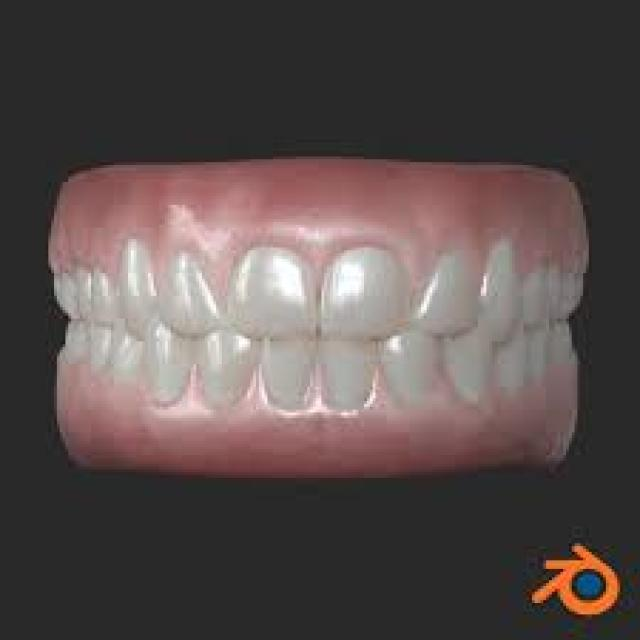tooth: (228, 253, 327, 341), (316, 248, 406, 336), (57, 324, 148, 390), (319, 341, 384, 418), (156, 253, 222, 327), (256, 330, 310, 412), (111, 239, 162, 324), (424, 262, 481, 330), (148, 330, 190, 415), (378, 338, 436, 396), (444, 338, 492, 407), (523, 273, 583, 327), (208, 333, 248, 412), (486, 248, 518, 338), (51, 270, 91, 330), (85, 273, 111, 319), (535, 336, 577, 361), (506, 344, 526, 393)
